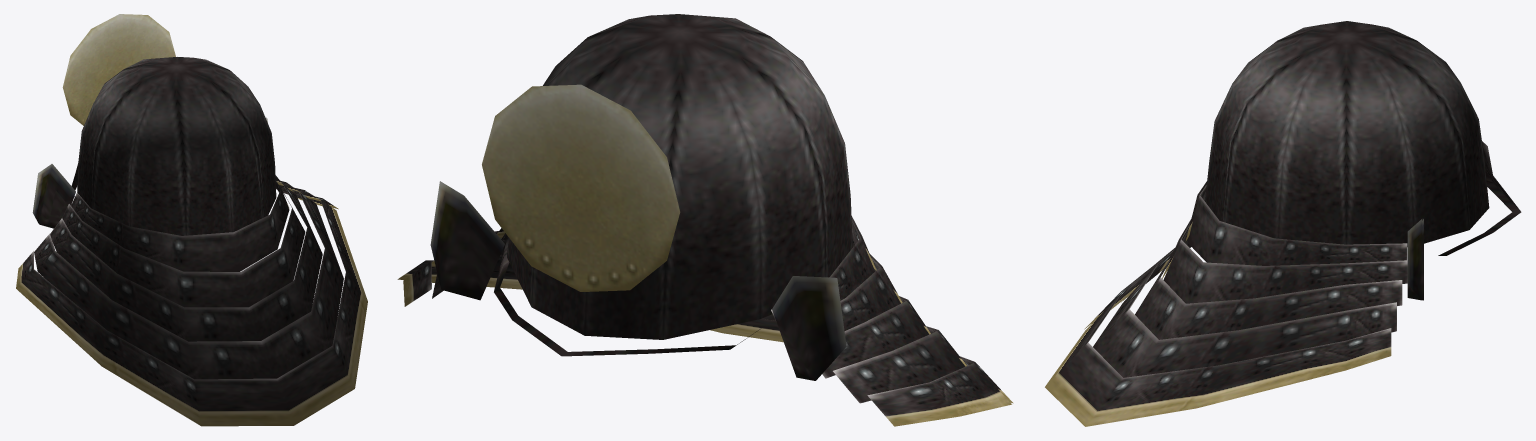
File: saveicon.icn.obj
3 renders of one model, left to right at view 1: azimuth 30°, elevation 25°; view 2: azimuth 150°, elevation 25°; view 3: azimuth 270°, elevation 25°, orthographic. The views are drawn at different scales.
Size of the model in its own units: 4.95 by 4.13 by 4.9.
1 material, 1 textured.
